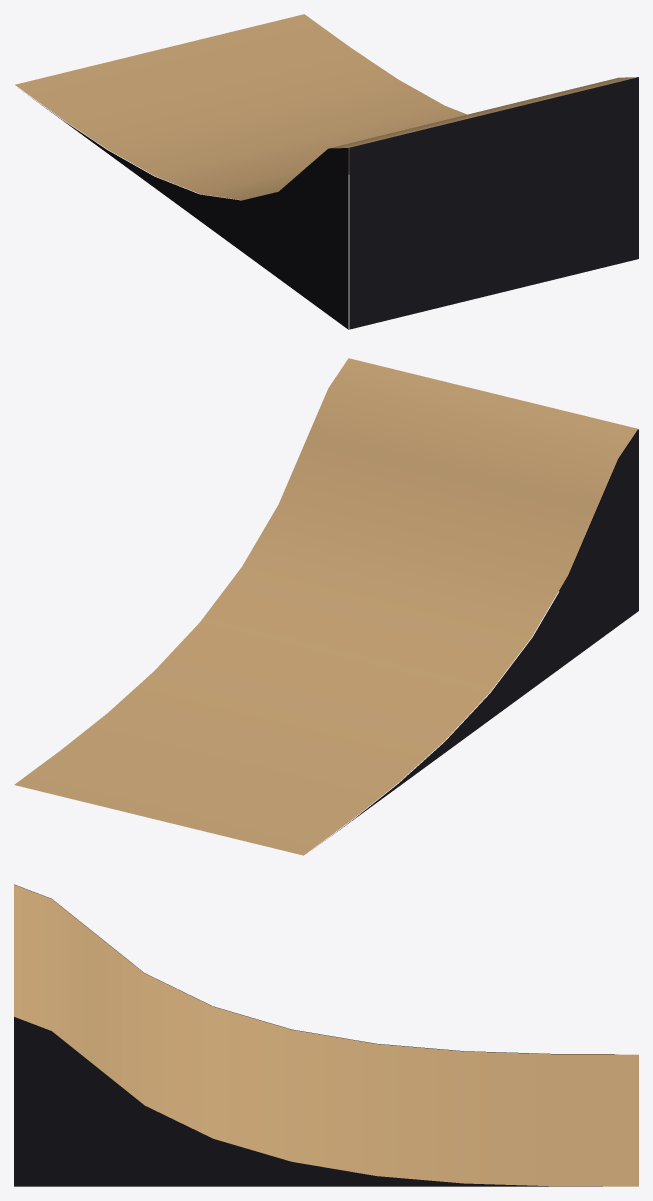
Rendered from Quater_SML_Trans_Half.fbx.
The picture shows the model from 3 angles, top to bottom: view 1: azimuth 30°, elevation 25°; view 2: azimuth 150°, elevation 25°; view 3: azimuth 270°, elevation 25°; orthographic projection. The views are drawn at different scales.
Visible parts, largest first — view 1: Quater_SML_Trans_Half; view 2: Quater_SML_Trans_Half; view 3: Quater_SML_Trans_Half.
Boxes of the visible parts, <box> form: Quater_SML_Trans_Half: <box>15,14,638,329</box>; Quater_SML_Trans_Half: <box>14,358,638,855</box>; Quater_SML_Trans_Half: <box>14,884,638,1186</box>.
Size of the model in its own units: 5.01 by 3 by 10.
